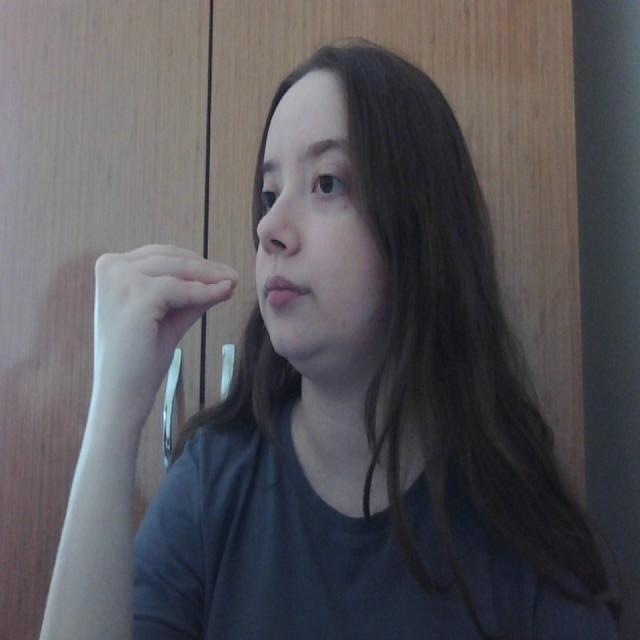Yemek: (88, 243, 306, 332)
